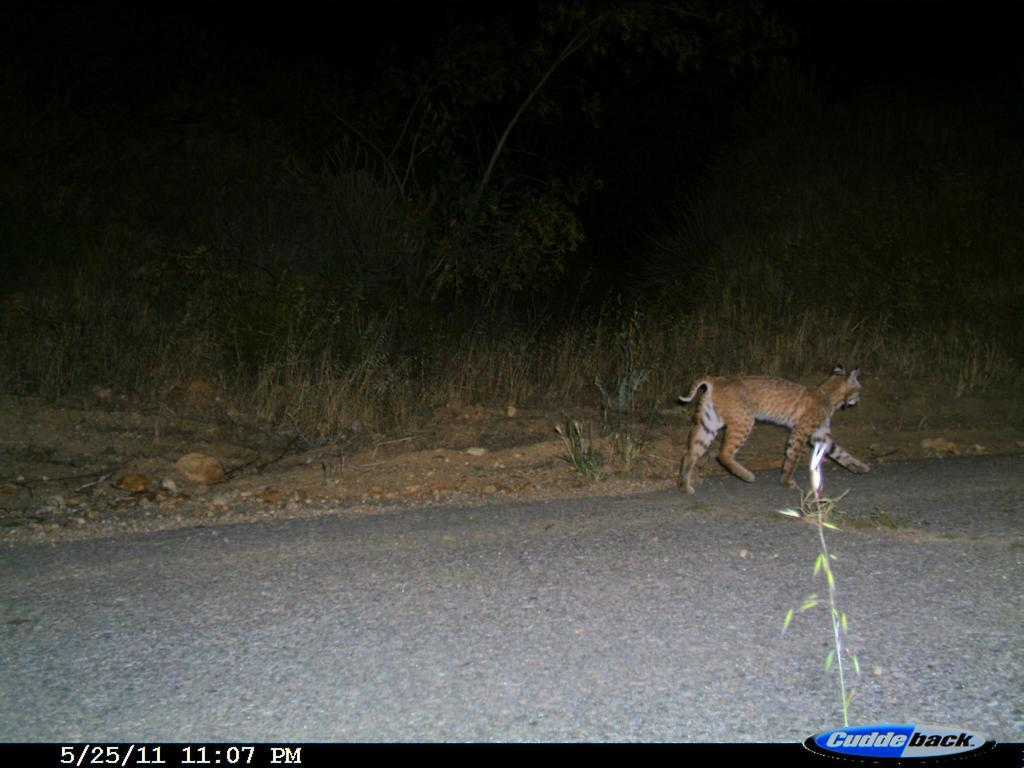bobcat: (667, 355, 881, 509)
